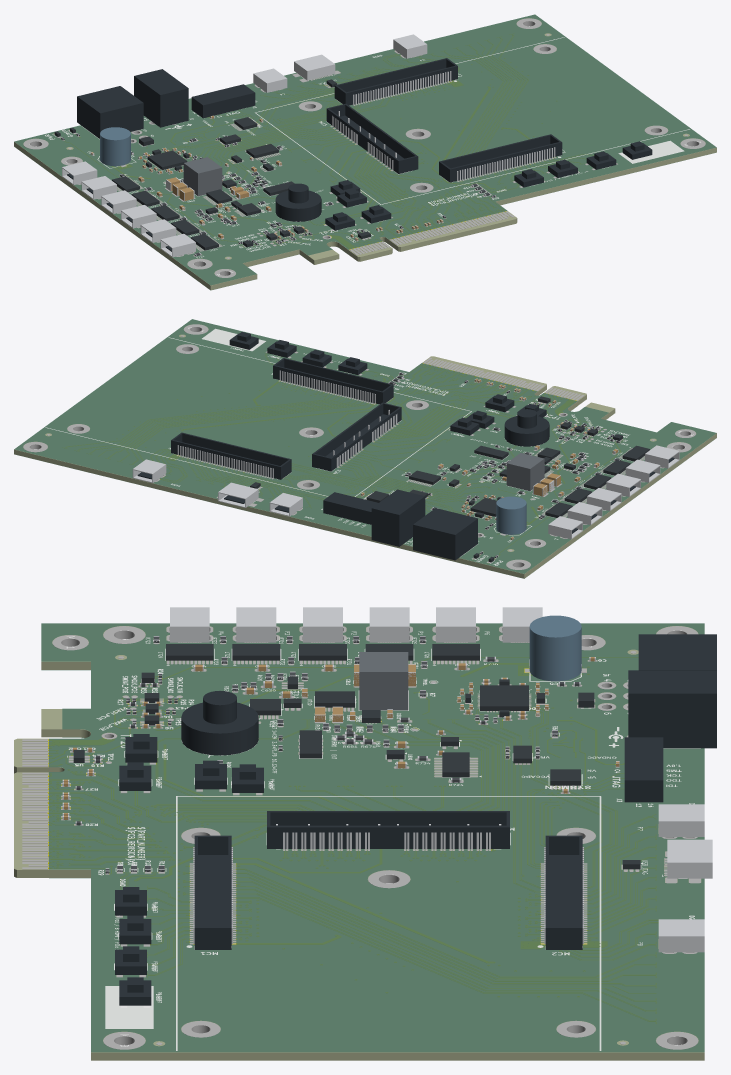
The model's file is carrier-v10.glb.
The picture shows the model from 3 angles, top to bottom: view 1: azimuth 30°, elevation 25°; view 2: azimuth 150°, elevation 25°; view 3: azimuth 270°, elevation 25°; orthographic projection. The views are drawn at different scales.
Parts seen in each view (by area): view 1: PCB_Surface_6, PCB_Surface_8, PCB_Surface_2, PCB_Surface_4, MC1, MC2, MC3, J5, J4, J3, SW600, L800 (+12 smaller); view 2: PCB_Surface_6, PCB_Surface_8, PCB_Surface_2, PCB_Surface_4, MC2, MC1, J5, MC3, J4, SW600, L800, J3 (+11 smaller); view 3: PCB_Surface_6, PCB_Surface_8, PCB_Surface_2, PCB_Surface_4, MC3, J4, MC1, MC2, PCB_Surface_1, SW600, C5, L800 (+25 smaller).
Part boxes in pixels (x1=…): PCB_Surface_6: x1=14, y1=14, x2=716, y2=285; PCB_Surface_8: x1=14, y1=15, x2=716, y2=290; PCB_Surface_2: x1=23, y1=18, x2=705, y2=277; PCB_Surface_4: x1=29, y1=22, x2=700, y2=275; MC1: x1=439, y1=134, x2=562, y2=182; MC2: x1=334, y1=58, x2=457, y2=105; MC3: x1=326, y1=103, x2=418, y2=173; J5: x1=77, y1=86, x2=143, y2=138; J4: x1=134, y1=69, x2=188, y2=127; J3: x1=191, y1=84, x2=255, y2=118; SW600: x1=275, y1=183, x2=321, y2=221; L800: x1=183, y1=157, x2=222, y2=196; PCB_Surface_6: x1=14, y1=319, x2=716, y2=573; PCB_Surface_8: x1=14, y1=320, x2=716, y2=578; PCB_Surface_2: x1=23, y1=324, x2=695, y2=569; PCB_Surface_4: x1=30, y1=327, x2=693, y2=566; MC2: x1=171, y1=432, x2=291, y2=479; MC1: x1=273, y1=358, x2=393, y2=404; J5: x1=413, y1=508, x2=477, y2=560; MC3: x1=312, y1=402, x2=401, y2=471; J4: x1=371, y1=489, x2=425, y2=546; SW600: x1=504, y1=409, x2=549, y2=446; L800: x1=506, y1=453, x2=544, y2=491; J3: x1=323, y1=492, x2=378, y2=524; PCB_Surface_6: x1=41, y1=623, x2=704, y2=1052; PCB_Surface_8: x1=14, y1=624, x2=704, y2=1060; PCB_Surface_2: x1=22, y1=626, x2=700, y2=1049; PCB_Surface_4: x1=66, y1=630, x2=700, y2=1050; MC3: x1=267, y1=811, x2=509, y2=849; J4: x1=628, y1=670, x2=716, y2=748; MC1: x1=193, y1=835, x2=232, y2=949; MC2: x1=544, y1=835, x2=583, y2=949; PCB_Surface_1: x1=47, y1=658, x2=657, y2=1021; SW600: x1=181, y1=691, x2=258, y2=755; C5: x1=529, y1=615, x2=581, y2=681; L800: x1=359, y1=652, x2=408, y2=710.
Bounding box in the file's own units: 0.1677 × 0.0125 × 0.1162.
